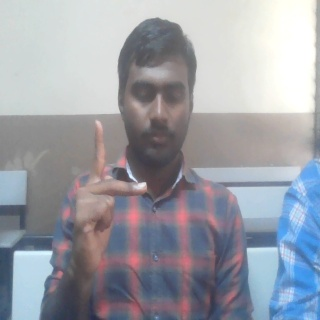Okay: (69, 117, 148, 276)
